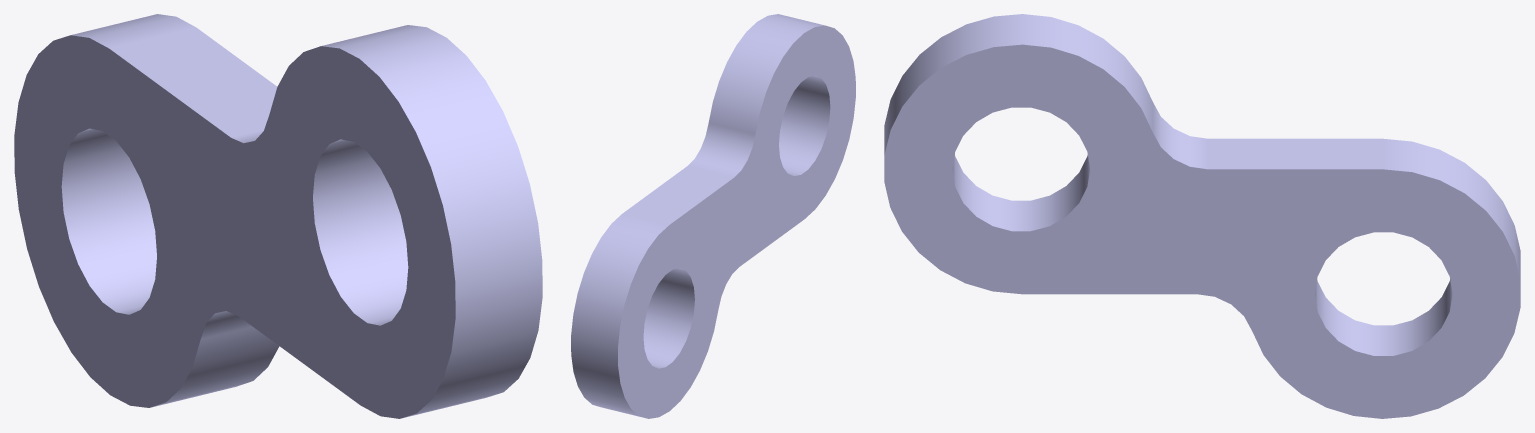
The model's file is 2 Offset ARM.fbx.
The picture shows the model from 3 angles, left to right: view 1: azimuth 30°, elevation 25°; view 2: azimuth 150°, elevation 25°; view 3: azimuth 270°, elevation 25°; orthographic projection. The views are drawn at different scales.
Visible parts, largest first — view 1: PartBody; view 2: PartBody; view 3: PartBody.
Part boxes in pixels (bbox=[...]): PartBody: bbox=[14, 14, 542, 418]; PartBody: bbox=[571, 14, 855, 418]; PartBody: bbox=[884, 14, 1520, 418].
Size of the model in its own units: 0.7874 by 4.49 by 6.91.
